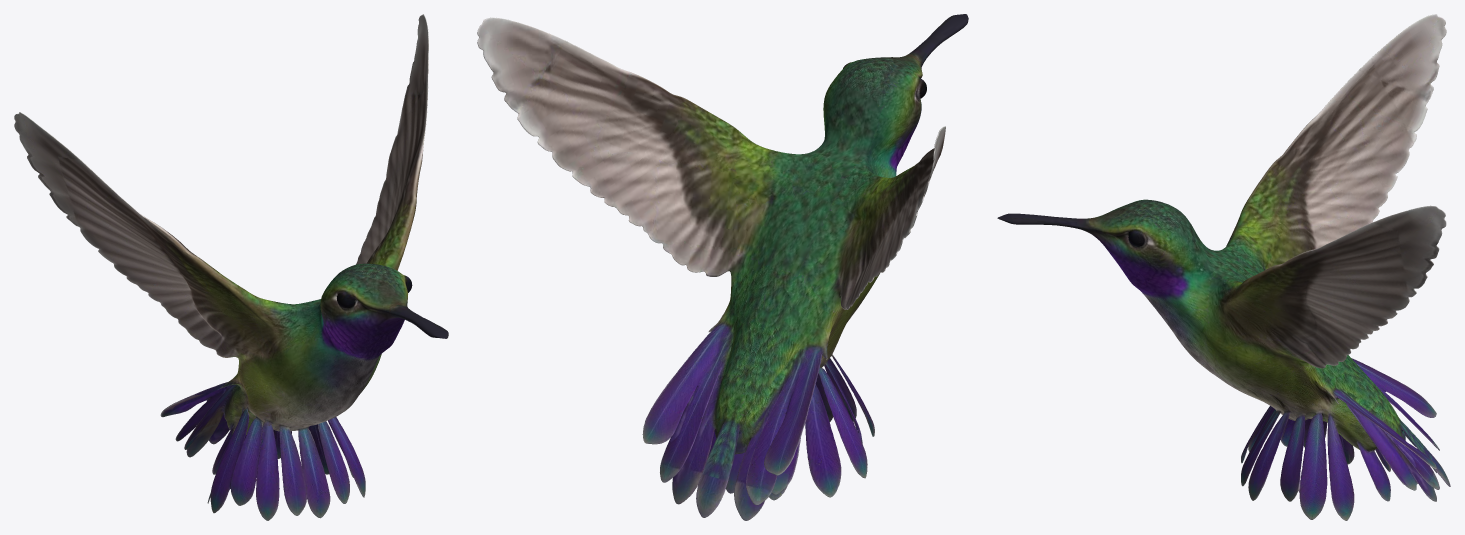
Rendered from hummingbird.glb.
The picture shows the model from 3 angles, left to right: view 1: azimuth 30°, elevation 25°; view 2: azimuth 150°, elevation 25°; view 3: azimuth 270°, elevation 25°; orthographic projection. The views are drawn at different scales.
Bounding box in the file's own units: 1.9 × 1.76 × 1.89.
Materials: 1 (1 with a texture image).
